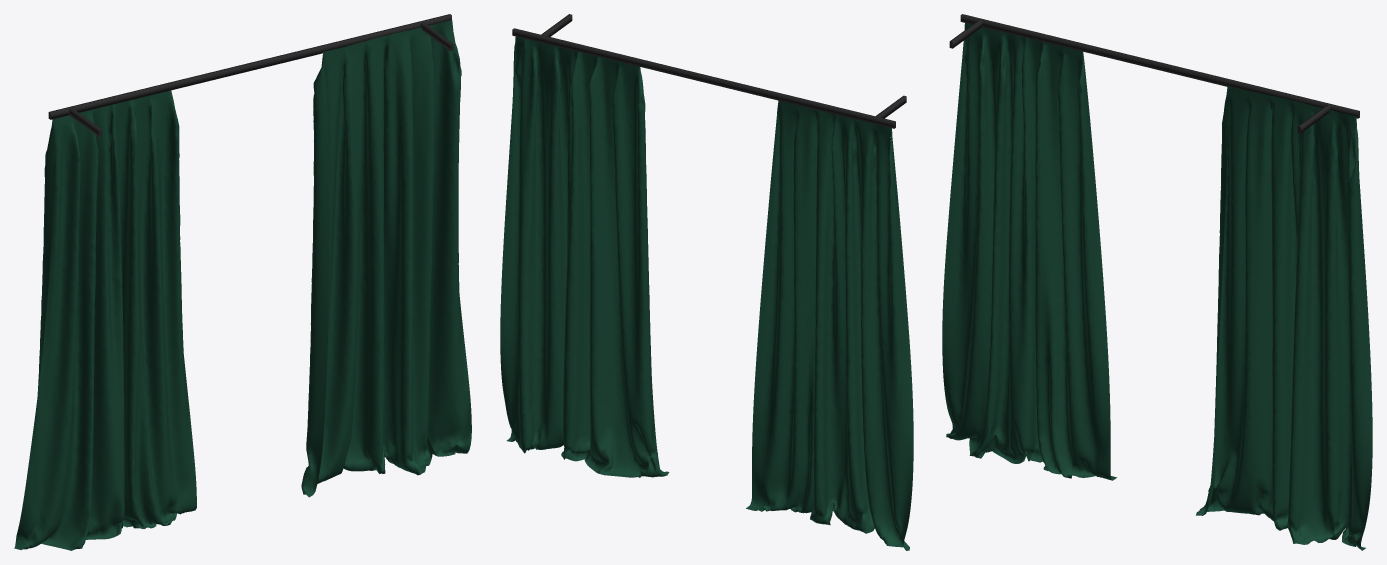
The model's file is Prop_curtain1.FBX.
3 views of the same model, side by side, from view 1: azimuth 30°, elevation 25°; view 2: azimuth 150°, elevation 25°; view 3: azimuth 330°, elevation 25° (orthographic). The views are drawn at different scales.
Parts seen in each view (by area): view 1: curtain2, curtain1, Curtain_bar; view 2: curtain1, curtain2, Curtain_bar; view 3: curtain2, curtain1, Curtain_bar.
Boxes of the visible parts, box(x1,y1,x2,y2) form: curtain2: box(301, 20, 471, 497); curtain1: box(14, 90, 196, 550); Curtain_bar: box(48, 14, 453, 136); curtain1: box(746, 100, 913, 550); curtain2: box(500, 36, 669, 477); Curtain_bar: box(512, 14, 906, 128); curtain2: box(1196, 85, 1372, 550); curtain1: box(942, 23, 1116, 480); Curtain_bar: box(949, 14, 1359, 133).
Size of the model in its own units: 85.69 by 14.51 by 80.93.
